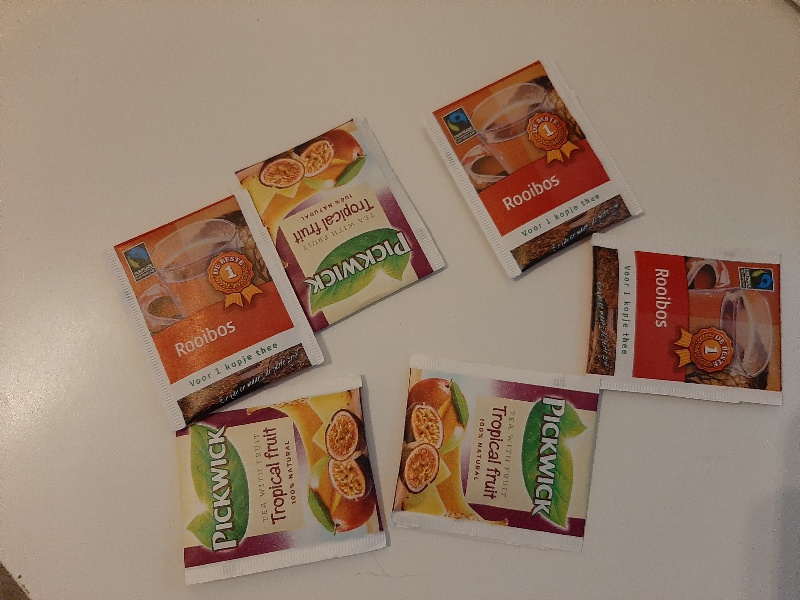rooibos: (102, 189, 327, 431), (425, 51, 641, 276), (584, 240, 788, 403)
tropisch: (226, 117, 450, 336), (170, 364, 388, 589), (389, 349, 609, 556)
